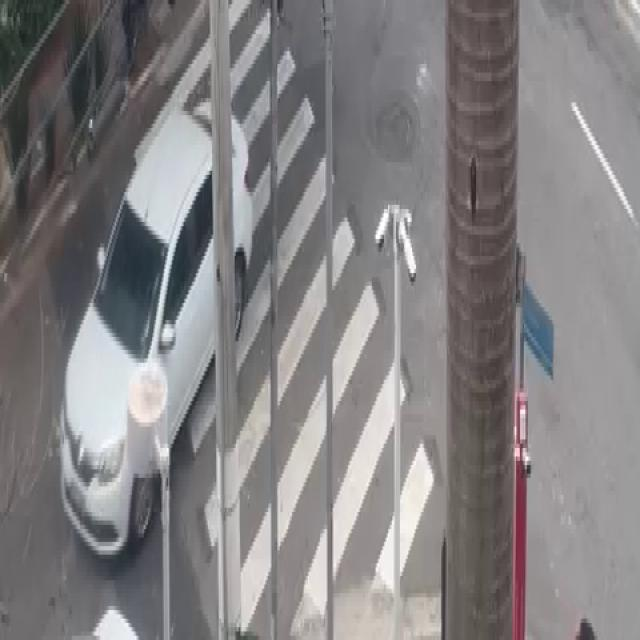car: (57, 104, 255, 559)
